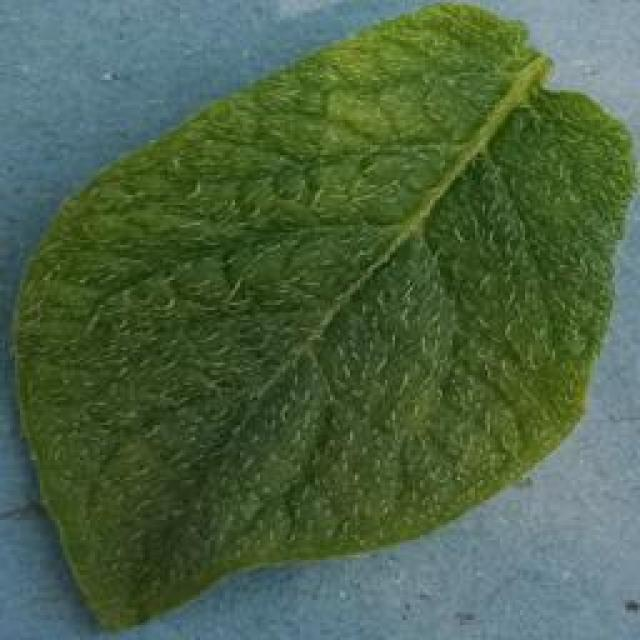Potato_Healthy: (15, 6, 627, 629)
